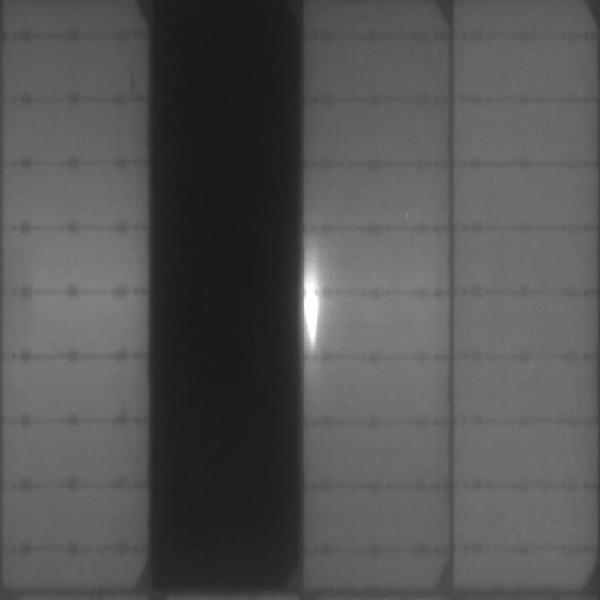hot_spot: (304, 272, 319, 346)
no_electricity: (149, 3, 302, 586)
